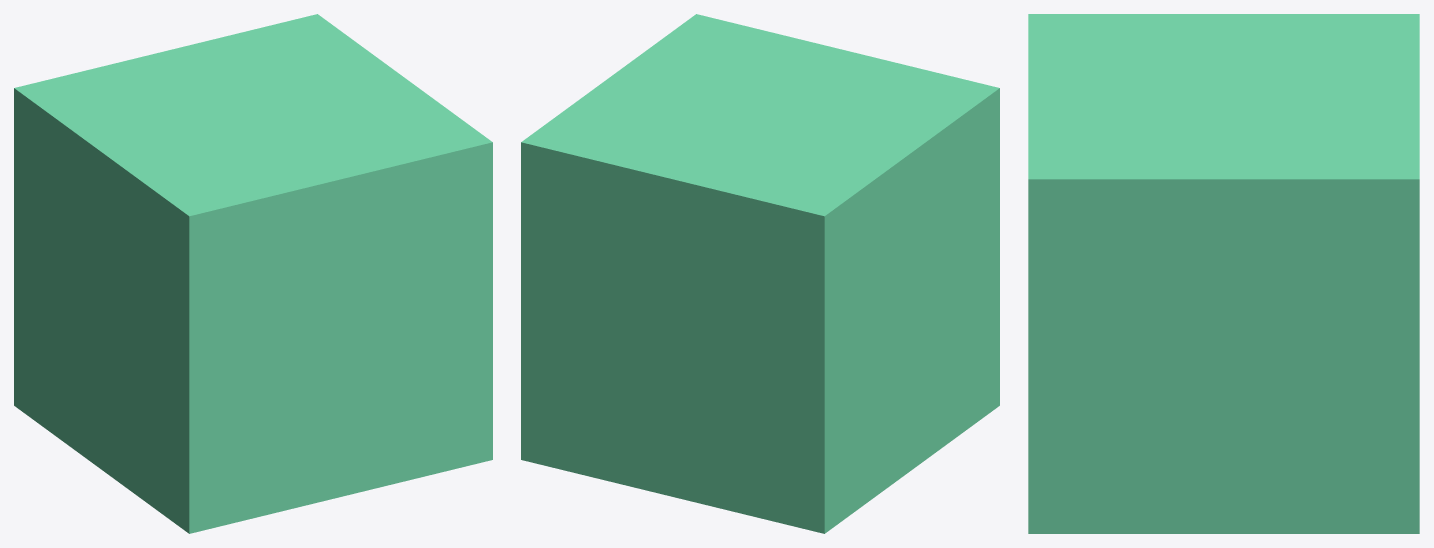
3 views of the same model, side by side, from view 1: azimuth 30°, elevation 25°; view 2: azimuth 150°, elevation 25°; view 3: azimuth 270°, elevation 25° (orthographic). The views are drawn at different scales.
Parts seen in each view (by area): view 1: Cube; view 2: Cube; view 3: Cube.
Part boxes in pixels (bbox=[...]): Cube: bbox=[14, 14, 492, 533]; Cube: bbox=[521, 14, 999, 533]; Cube: bbox=[1028, 14, 1419, 533].
Bounding box in the file's own units: 2 × 2 × 2.
